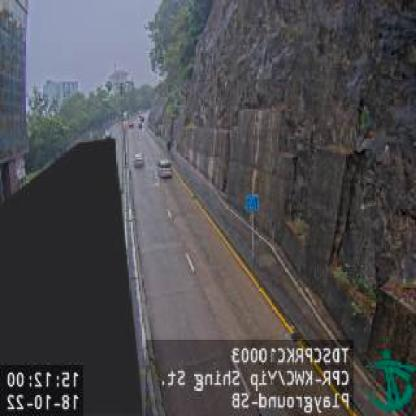Car: (157, 157, 173, 178), (132, 154, 144, 171)
